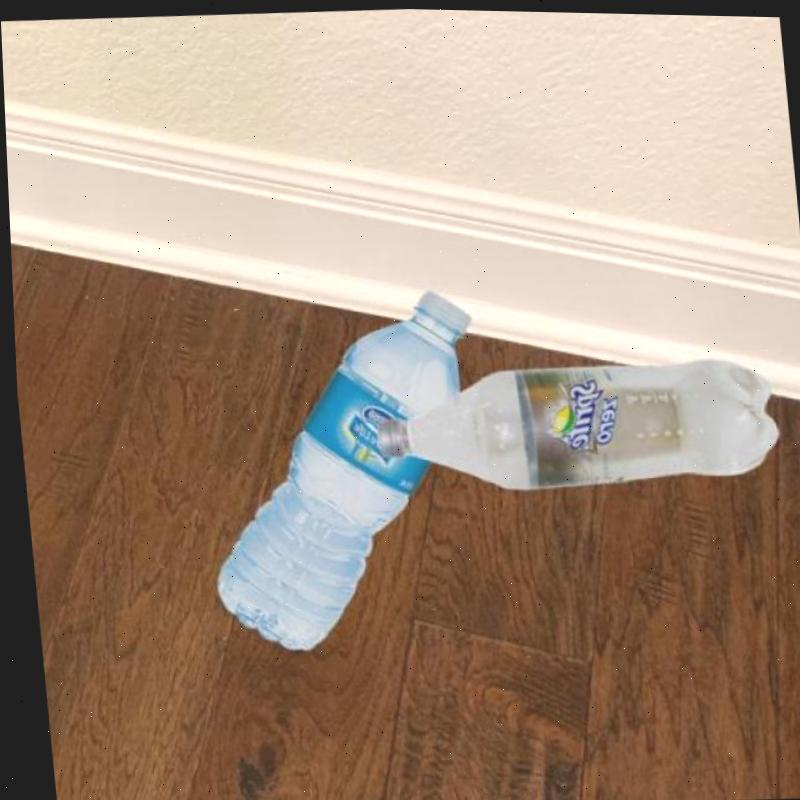botella: (179, 280, 498, 657), (361, 339, 782, 506)
